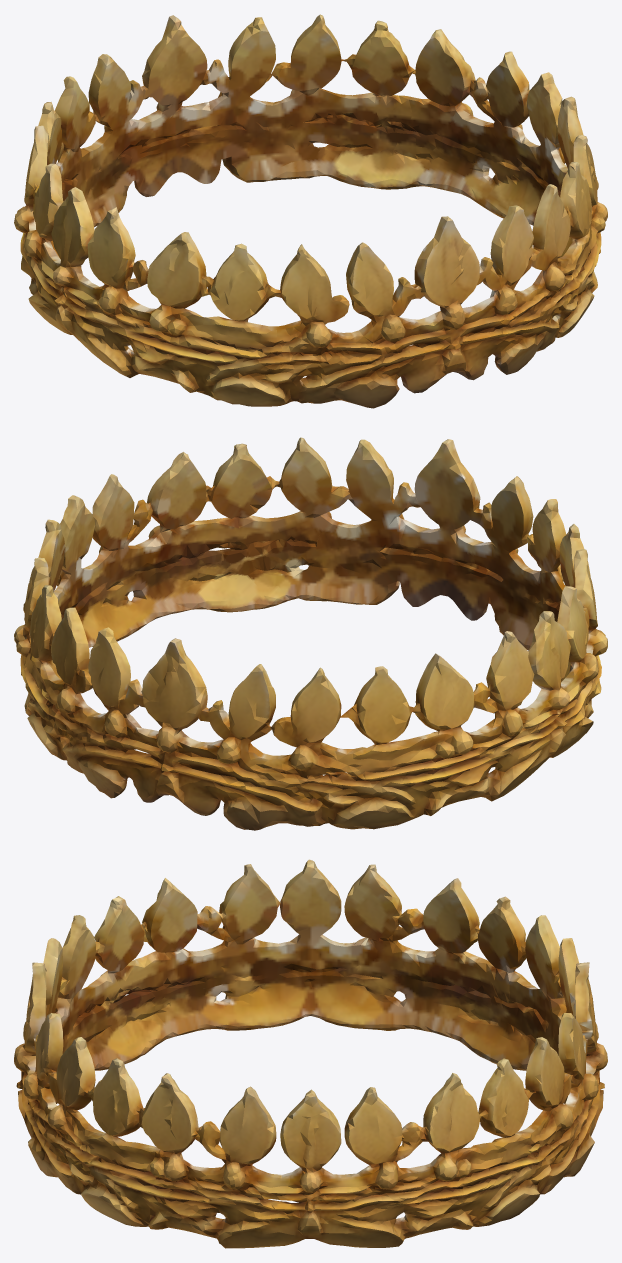
File: greece_laurel.glb
3 renders of one model, top to bottom at view 1: azimuth 30°, elevation 25°; view 2: azimuth 150°, elevation 25°; view 3: azimuth 270°, elevation 25°, orthographic.
Visible parts, largest first — view 1: greece_laurel; view 2: greece_laurel; view 3: greece_laurel.
Boxes of the visible parts, x1,y1,x2,y2 form: greece_laurel: [14, 14, 607, 408]; greece_laurel: [14, 437, 607, 830]; greece_laurel: [14, 859, 607, 1248].
Bounding box in the file's own units: 1.9 × 0.6221 × 1.89.
Materials: 1 (1 with a texture image).
